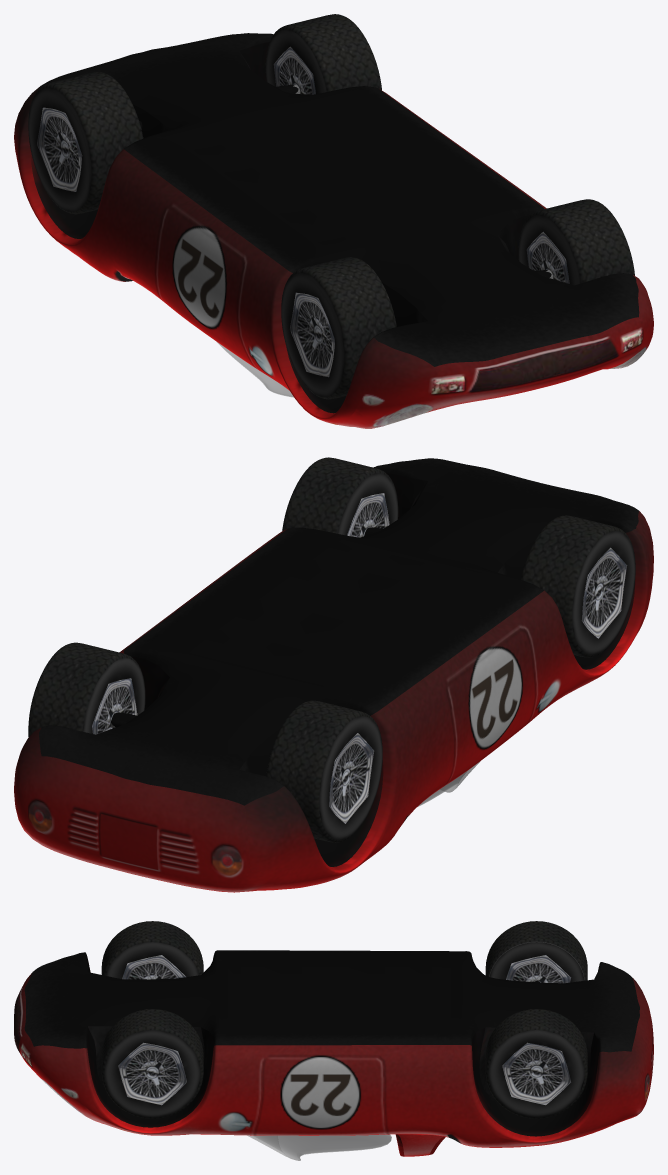
The model's file is car.gltf.
3 renders of one model, top to bottom at view 1: azimuth 30°, elevation 25°; view 2: azimuth 150°, elevation 25°; view 3: azimuth 270°, elevation 25°, orthographic. The views are drawn at different scales.
Visible parts, largest first — view 1: 10604_slot_car_red_SG_v1_iterations-2; view 2: 10604_slot_car_red_SG_v1_iterations-2; view 3: 10604_slot_car_red_SG_v1_iterations-2.
Boxes of the visible parts, x1,y1,x2,y2 form: 10604_slot_car_red_SG_v1_iterations-2: (14, 14, 653, 428); 10604_slot_car_red_SG_v1_iterations-2: (14, 457, 653, 892); 10604_slot_car_red_SG_v1_iterations-2: (14, 921, 653, 1160).
Size of the model in its own units: 2.05 by 1.39 by 4.95.
Materials: 2 (1 with a texture image).
